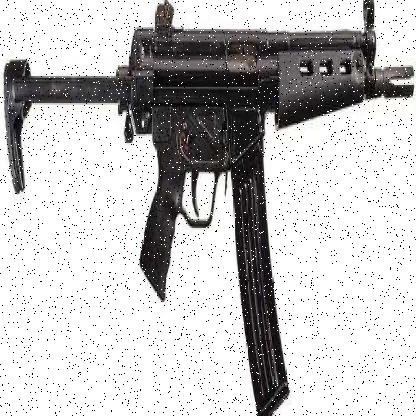rifle: (6, 9, 414, 414)
